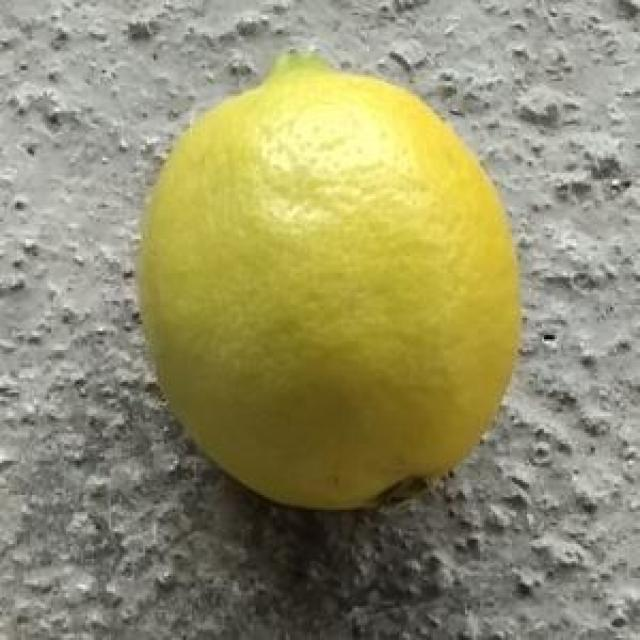lemon: (138, 46, 527, 520)
